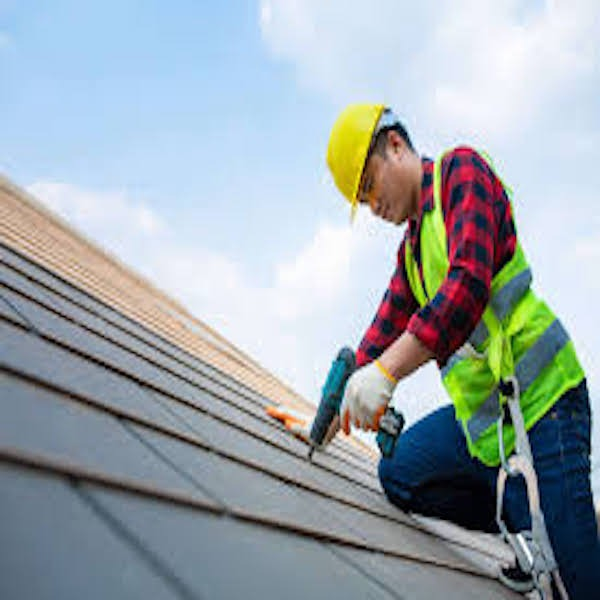helmet: (318, 101, 384, 209)
vest: (402, 199, 587, 430)
